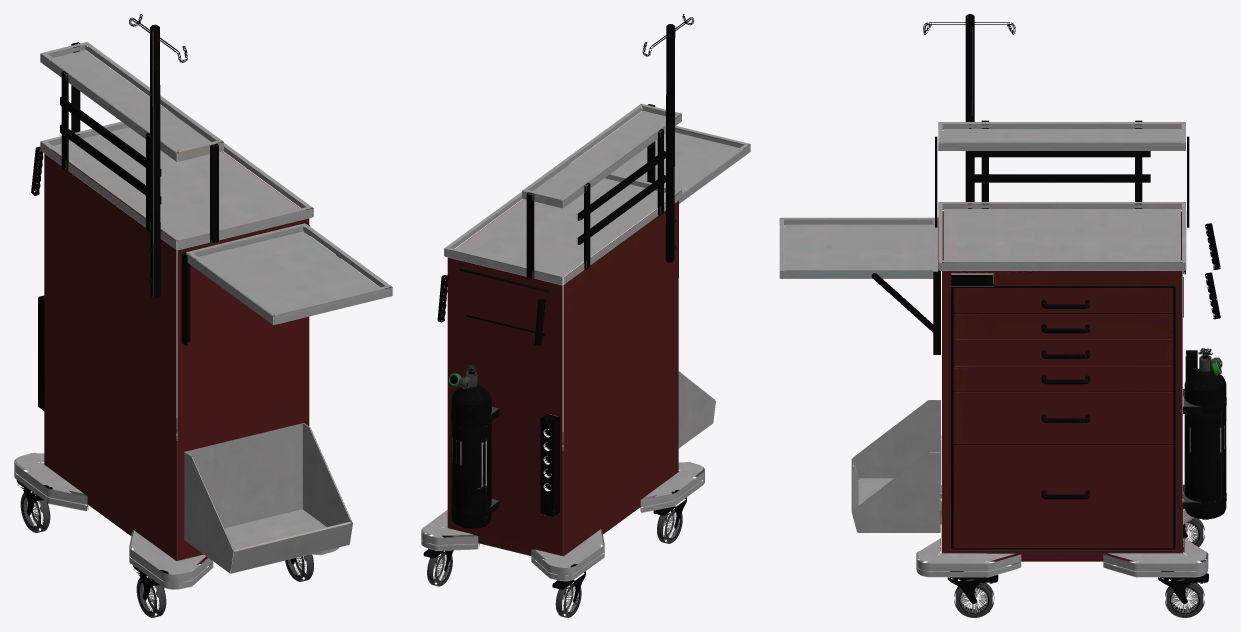
File: bk_trolley.glb
The picture shows the model from 3 angles, left to right: view 1: azimuth 30°, elevation 25°; view 2: azimuth 150°, elevation 25°; view 3: azimuth 270°, elevation 25°; orthographic projection. The views are drawn at different scales.
Visible parts, largest first — view 1: Plane.003, Plane.001, Plane.002, Wheel.002, Wheel.003, Wheel.001; view 2: Plane.003, Plane.001, Plane.002, Plane.004, Wheel.002, Wheel.003, Wheel; view 3: Plane.003, Plane.001, Wheel, Wheel.001, Plane.004.
Part boxes in pixels (bbox=[...]): Plane.003: bbox=[40, 14, 392, 573]; Plane.001: bbox=[14, 418, 339, 589]; Plane.002: bbox=[38, 295, 44, 410]; Wheel.002: bbox=[20, 491, 50, 532]; Wheel.003: bbox=[136, 576, 166, 617]; Wheel.001: bbox=[285, 554, 313, 581]; Plane.003: bbox=[444, 14, 750, 559]; Plane.001: bbox=[421, 432, 704, 581]; Plane.002: bbox=[540, 413, 559, 517]; Plane.004: bbox=[437, 268, 550, 345]; Wheel.002: bbox=[555, 580, 581, 617]; Wheel.003: bbox=[657, 506, 682, 543]; Wheel: bbox=[427, 552, 452, 586]; Plane.003: bbox=[779, 14, 1226, 561]; Plane.001: bbox=[916, 485, 1208, 577]; Wheel: bbox=[1165, 579, 1204, 617]; Wheel.001: bbox=[954, 579, 994, 617]; Plane.004: bbox=[1183, 223, 1220, 319].
Size of the model in its own units: 0.4007 by 1.28 by 0.9694.
Materials: 7 (7 with a texture image).
